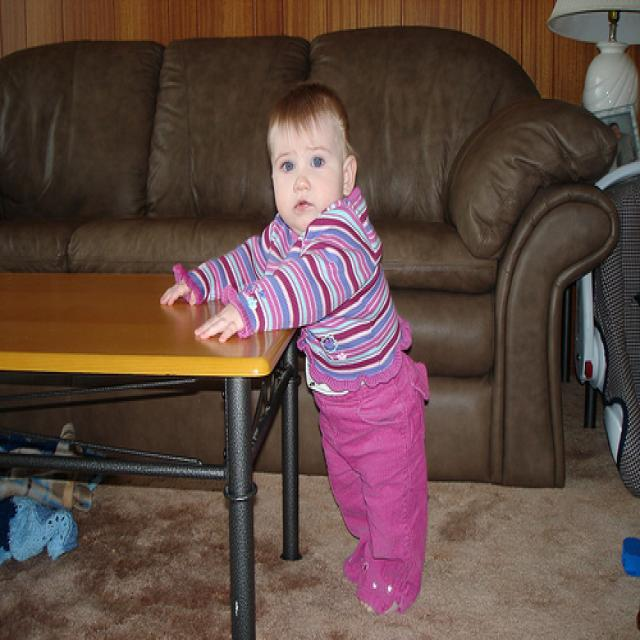child: (160, 88, 449, 616)
